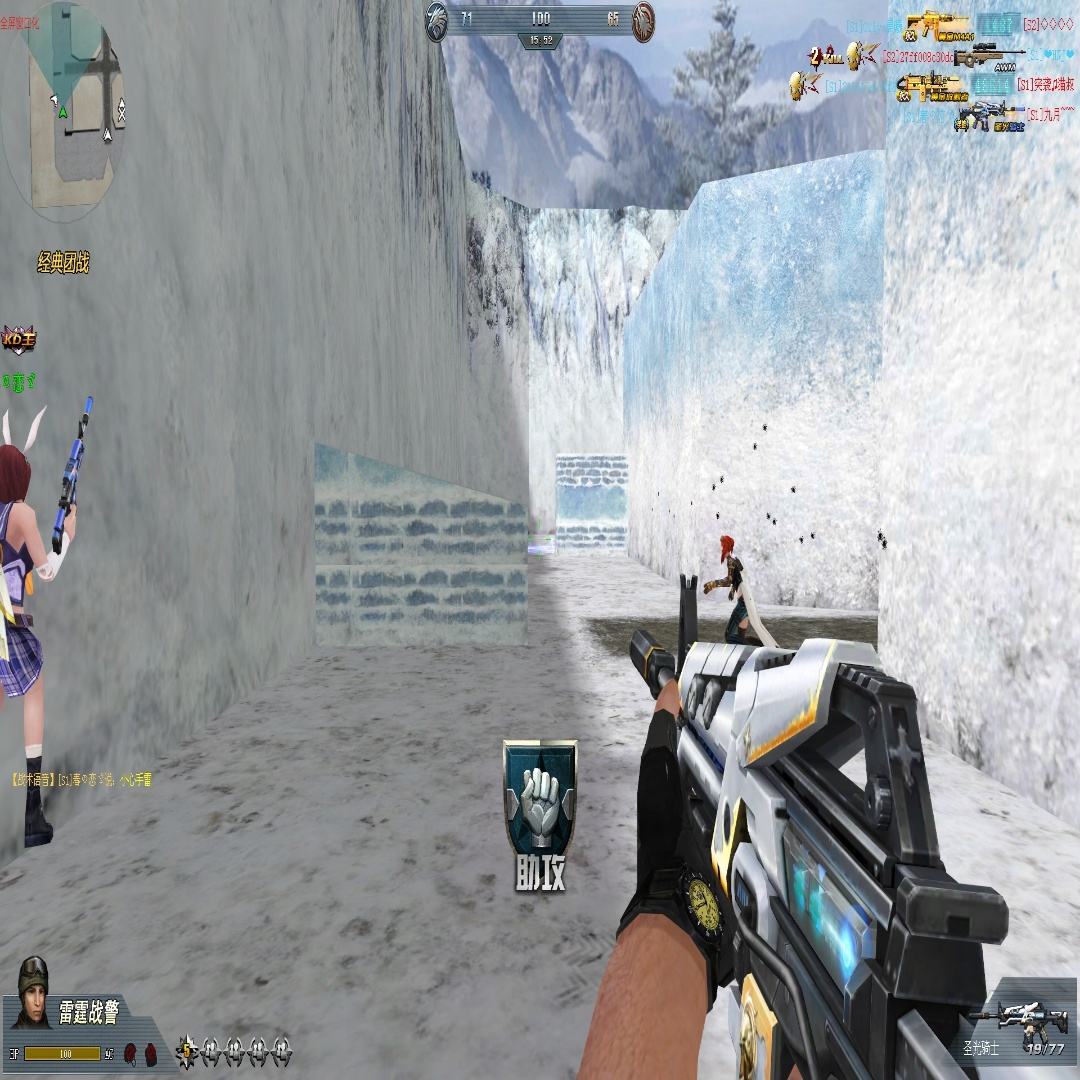ct: (1, 414, 90, 860)
